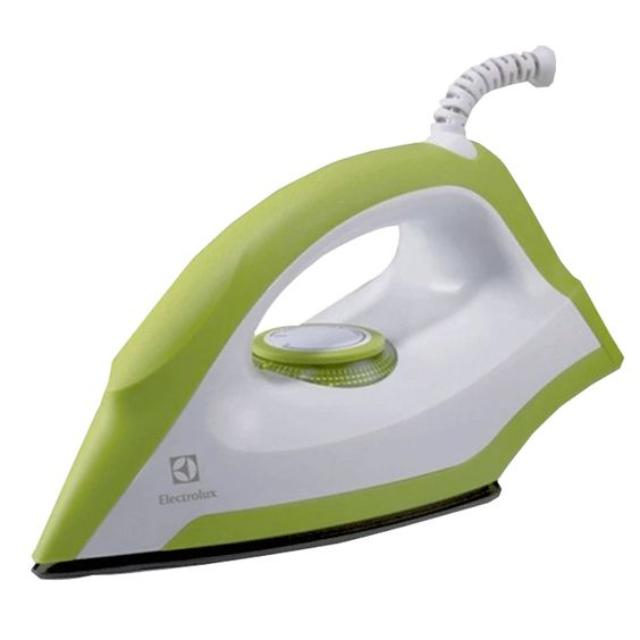Clothes-Iron: (78, 71, 534, 541)
